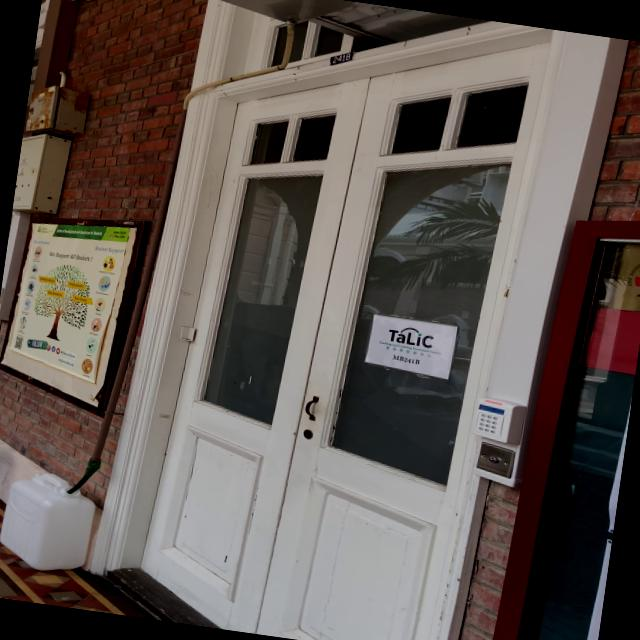room241b: (326, 48, 354, 69)
